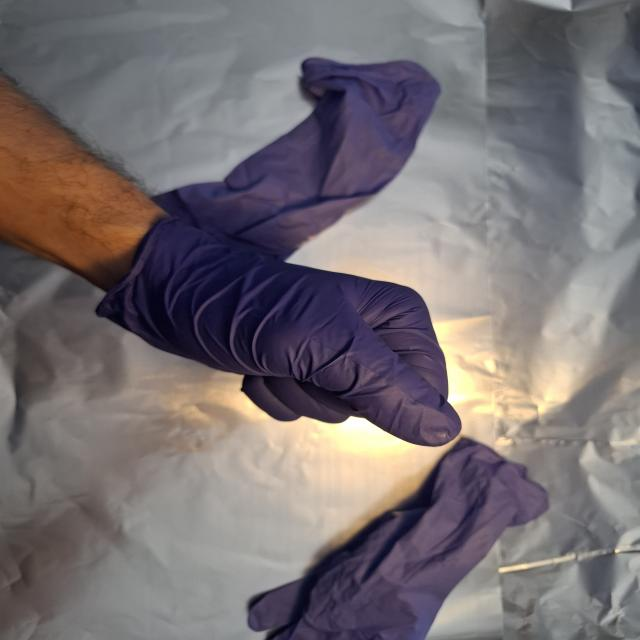glove_on: (89, 213, 466, 452)
